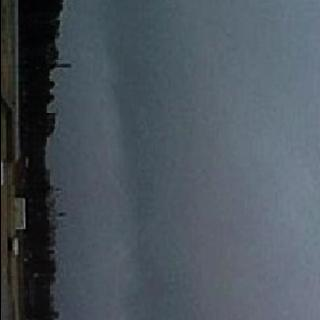Nimbostratus: (67, 0, 320, 320)
